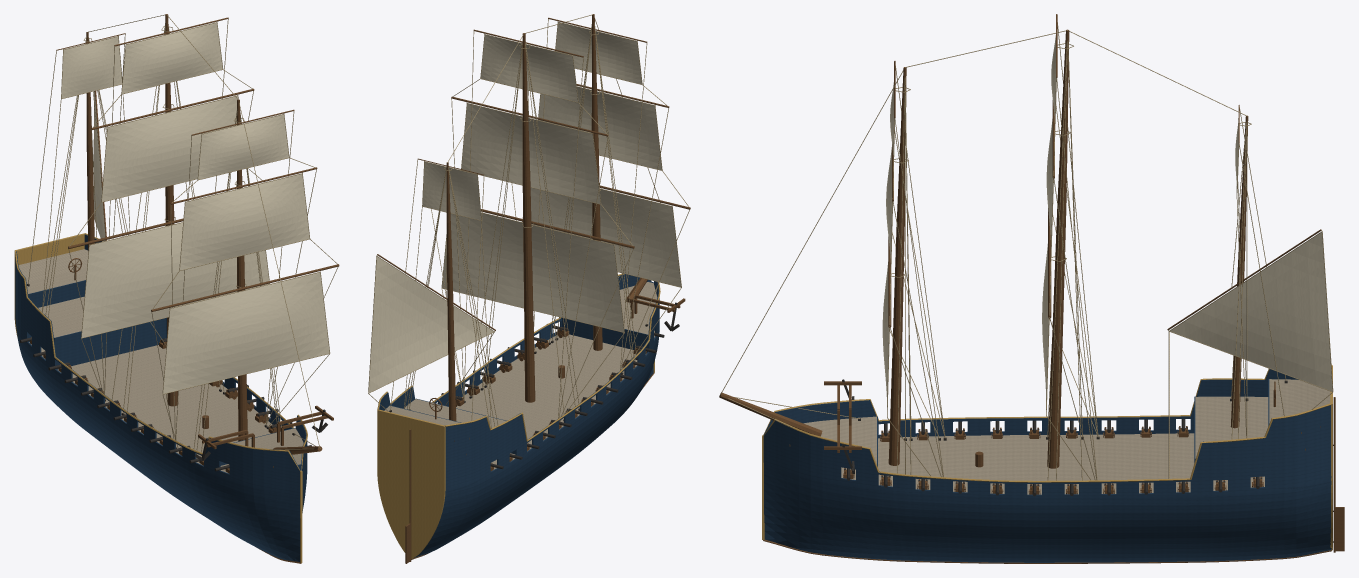
File: ship.glb
3 renders of one model, left to right at view 1: azimuth 30°, elevation 25°; view 2: azimuth 150°, elevation 25°; view 3: azimuth 270°, elevation 25°, orthographic. The views are drawn at different scales.
Visible parts, largest first — view 1: hull_shell_starboard, fore_square_00, main_square_00, main_deck, fore_square_01, main_square_01, main_square_02, fore_square_02, castle_bulkhead_1_1, mizzen_square_00, castle_deck_0, stern_closure (+12 smaller); view 2: hull_shell_starboard, main_square_00, main_square_01, main_deck, mizzen_lateen_01, stern_closure, fore_square_00, fore_square_01, main_square_02, fore_square_02, main, mizzen_square_00 (+17 smaller); view 3: hull_shell_port, main_deck, mizzen_lateen_01, hull_shell_starboard, main, fore, castle_deck_1, castle_deck_0, gunwale_port, mizzen, castle_deck_2, keel (+2 smaller).
Boxes of the visible parts, left/top/right/bottom form: hull_shell_starboard: left=15, top=251, right=300, bottom=561; fore_square_00: left=163, top=272, right=329, bottom=393; main_square_00: left=81, top=222, right=269, bottom=337; main_deck: left=29, top=342, right=272, bottom=472; fore_square_01: left=180, top=174, right=309, bottom=270; main_square_01: left=102, top=96, right=240, bottom=201; main_square_02: left=122, top=23, right=222, bottom=93; fore_square_02: left=198, top=114, right=288, bottom=179; castle_bulkhead_1_1: left=54, top=318, right=166, bottom=369; mizzen_square_00: left=61, top=37, right=122, bottom=98; castle_deck_0: left=18, top=249, right=88, bottom=293; stern_closure: left=14, top=233, right=84, bottom=337; hull_shell_starboard: left=413, top=281, right=659, bottom=558; main_square_00: left=442, top=213, right=624, bottom=332; main_square_01: left=461, top=103, right=600, bottom=203; main_deck: left=456, top=330, right=654, bottom=469; mizzen_lateen_01: left=368, top=256, right=493, bottom=392; stern_closure: left=377, top=409, right=445, bottom=559; fore_square_00: left=530, top=188, right=681, bottom=286; fore_square_01: left=538, top=87, right=661, bottom=170; main_square_02: left=481, top=35, right=577, bottom=102; fore_square_02: left=555, top=22, right=641, bottom=84; main: left=522, top=33, right=535, bottom=402; mizzen_square_00: left=422, top=162, right=480, bottom=220; hull_shell_port: left=763, top=405, right=1331, bottom=562; main_deck: left=841, top=433, right=1264, bottom=494; mizzen_lateen_01: left=1170, top=232, right=1332, bottom=391; hull_shell_starboard: left=763, top=369, right=1298, bottom=438; main: left=1047, top=29, right=1069, bottom=468; fore: left=888, top=67, right=906, bottom=465; castle_deck_1: left=1195, top=396, right=1268, bottom=458; castle_deck_0: left=1269, top=379, right=1330, bottom=423; gunwale_port: left=763, top=403, right=1331, bottom=482; mizzen: left=1230, top=115, right=1248, bottom=428; castle_deck_2: left=803, top=416, right=876, bottom=464; keel: left=763, top=539, right=1331, bottom=563.
Bounding box in the file's own units: 19.09 × 40.42 × 42.94.
Materials: 7 (7 with a texture image).
